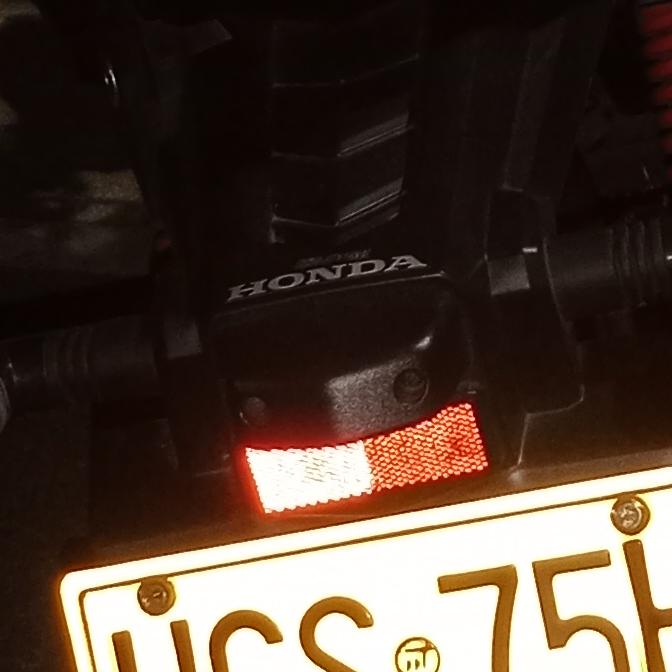plates: (62, 469, 672, 672)
